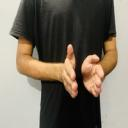hand: (80, 53, 104, 97), (60, 43, 78, 98)
